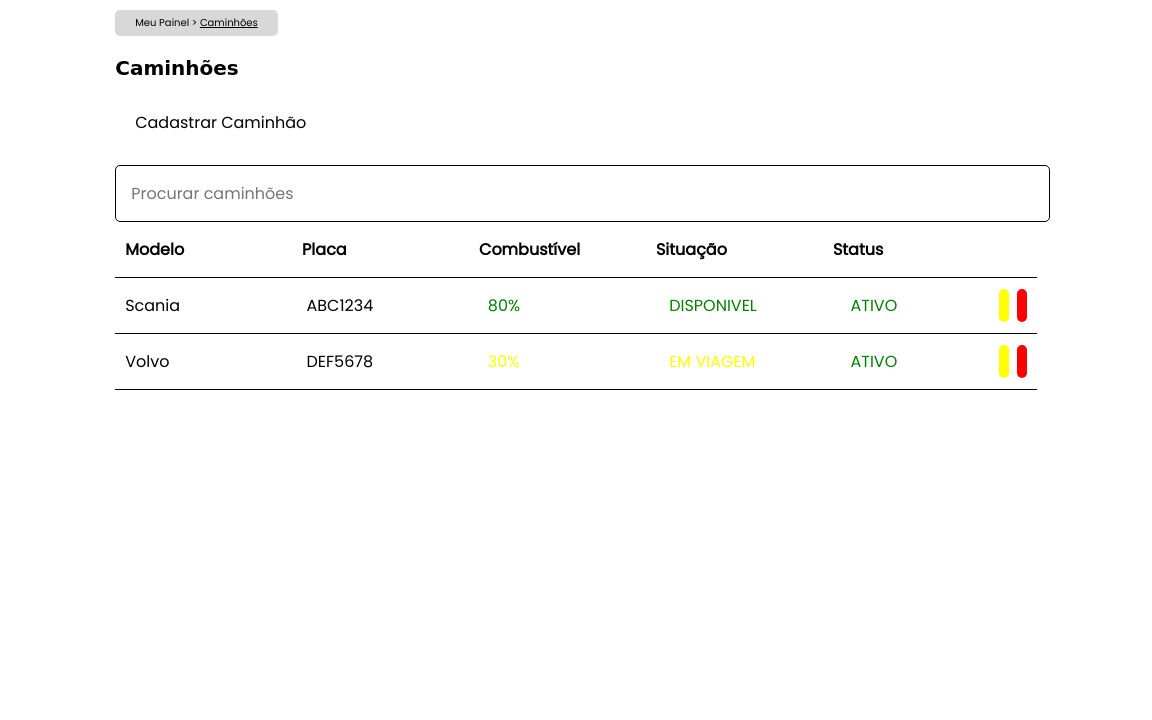
Caminhões Page › should open EditTruckModal when edit button is clicked
Click the 1st button titled "Abastecer".
click(1004, 306)  # box [999,293,1009,318]
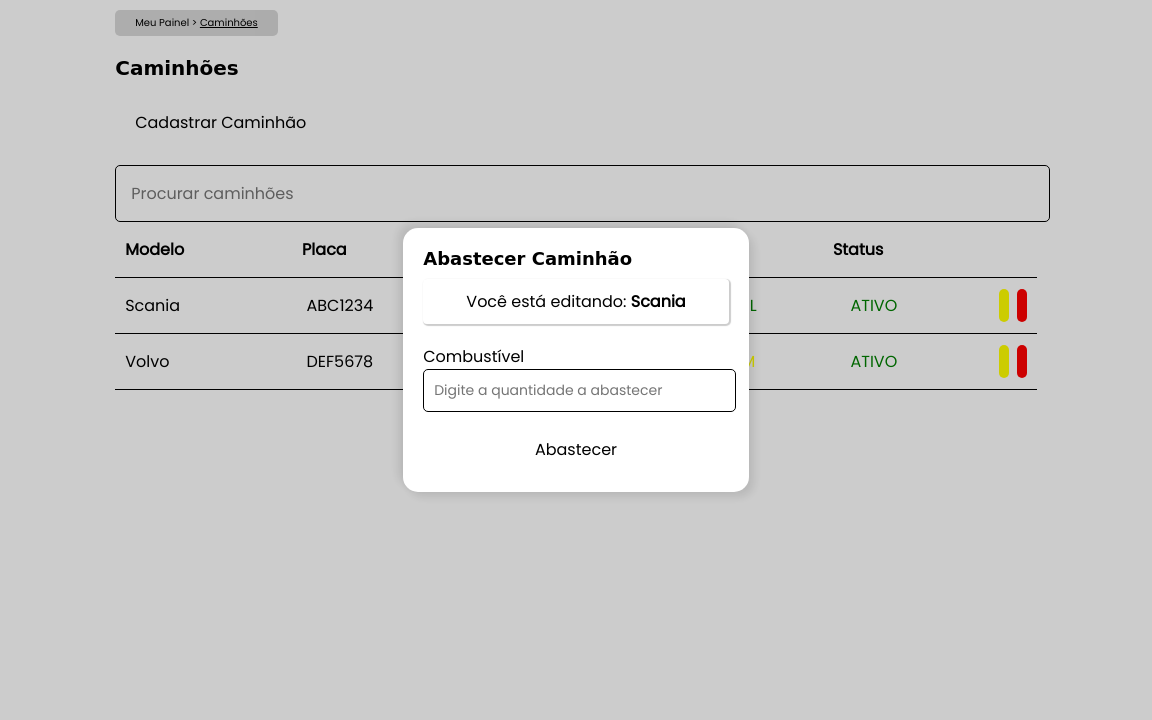
Now the heading "Abastecer Caminhão" is shown, box [423,248,632,269]
